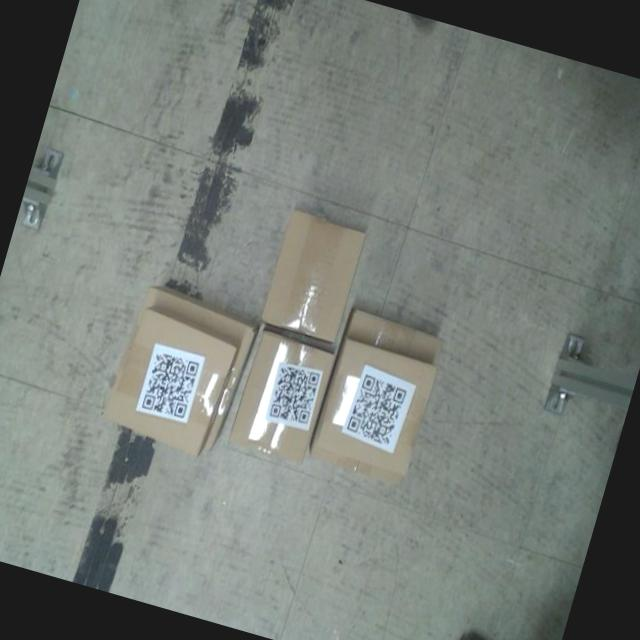box: (98, 302, 243, 462), (310, 334, 440, 478), (226, 326, 338, 468), (257, 206, 370, 346)
